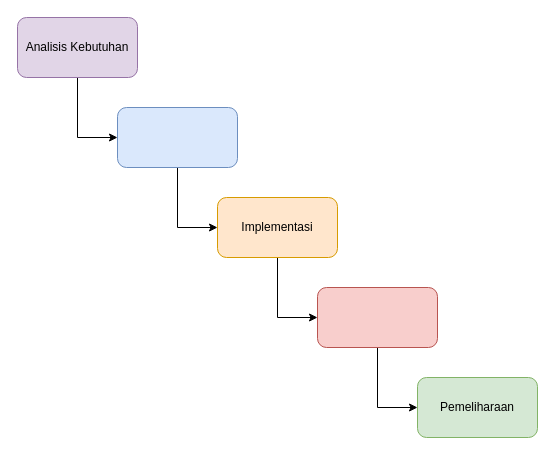
Image size: 555x455. Some labels were removed from this diagram. Each missing label, with the centre of its shape:
"Pengujian" goes at point 377,317.
"Perancangan" goes at point 177,137.
